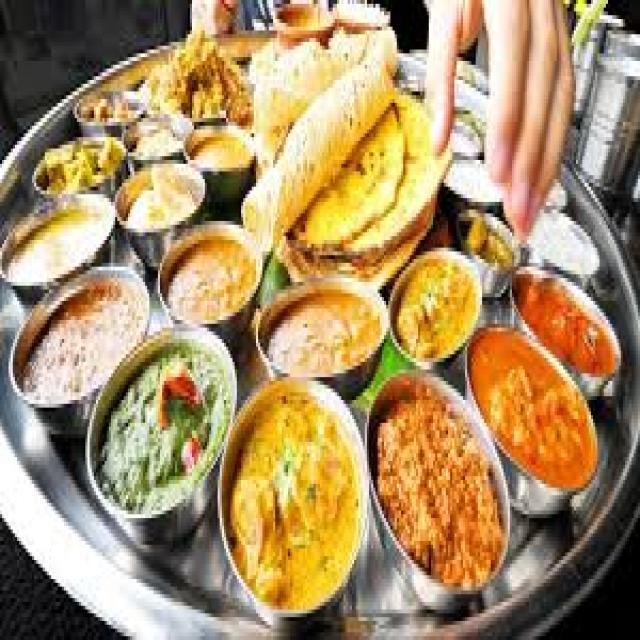papad: (241, 1, 391, 209)
rice: (369, 388, 514, 599)
sambar-rasam: (14, 258, 148, 418), (154, 219, 261, 333)
sweet: (152, 222, 263, 331)
veg-fry: (459, 305, 612, 531), (90, 329, 229, 539), (504, 261, 625, 409)
